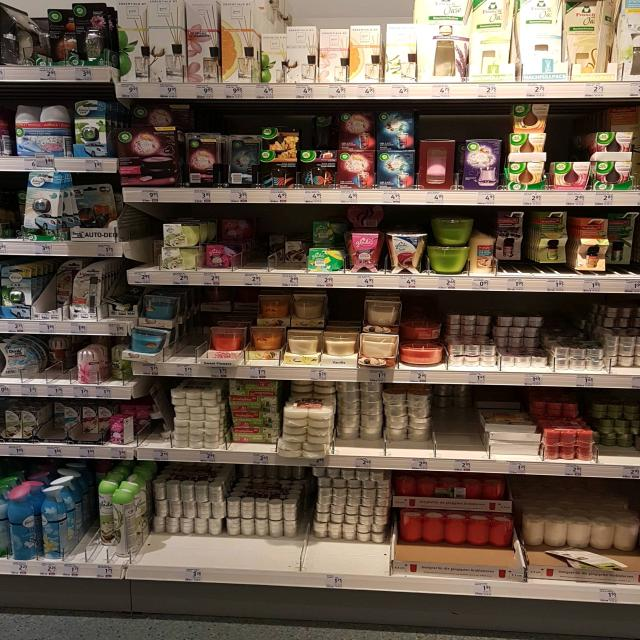unorganised: (397, 470, 522, 574), (155, 479, 299, 569), (310, 465, 388, 574), (524, 507, 640, 547), (385, 384, 436, 457), (335, 381, 385, 454), (227, 382, 277, 450), (132, 292, 172, 365), (6, 486, 40, 564), (546, 547, 622, 579), (260, 292, 325, 327), (588, 1, 619, 74), (74, 182, 117, 231), (38, 487, 67, 559), (128, 99, 192, 126), (607, 212, 637, 269), (111, 490, 136, 558), (495, 312, 541, 348), (228, 132, 259, 185), (497, 209, 525, 267), (247, 325, 285, 364), (362, 296, 403, 330), (95, 482, 113, 553), (448, 312, 491, 339), (599, 302, 639, 330), (49, 265, 73, 309), (309, 220, 345, 248), (106, 414, 133, 448), (348, 203, 386, 227), (104, 347, 130, 382), (279, 238, 308, 267), (46, 337, 69, 373), (220, 219, 251, 241), (47, 403, 63, 435)
